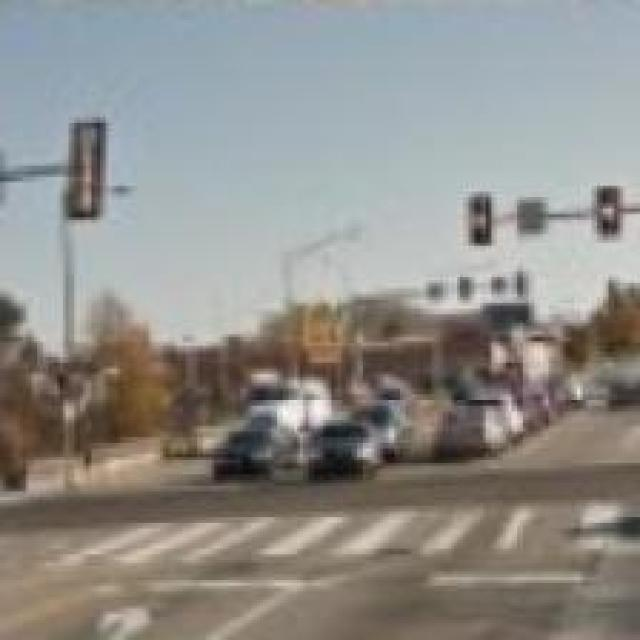walk-crossing: (105, 507, 634, 558)
